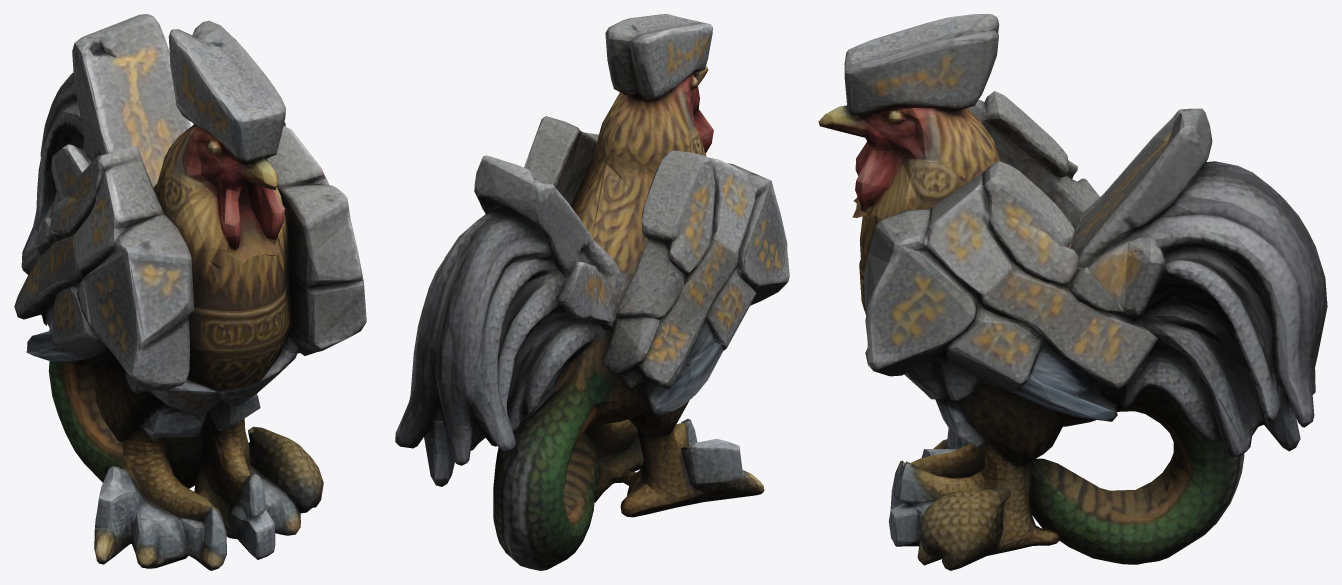
The model's file is stillgaze__stoneShield.glb.
3 views of the same model, side by side, from view 1: azimuth 30°, elevation 25°; view 2: azimuth 150°, elevation 25°; view 3: azimuth 270°, elevation 25° (orthographic). The views are drawn at different scales.
Visible parts, largest first — view 1: world; view 2: world; view 3: world.
Part boxes in pixels (x1,y1,x2,y2): world: [14, 14, 366, 570]; world: [395, 14, 789, 570]; world: [818, 14, 1327, 570].
Bounding box in the file's own units: 0.3868 × 0.7858 × 0.6842.
Materials: 1 (1 with a texture image).
